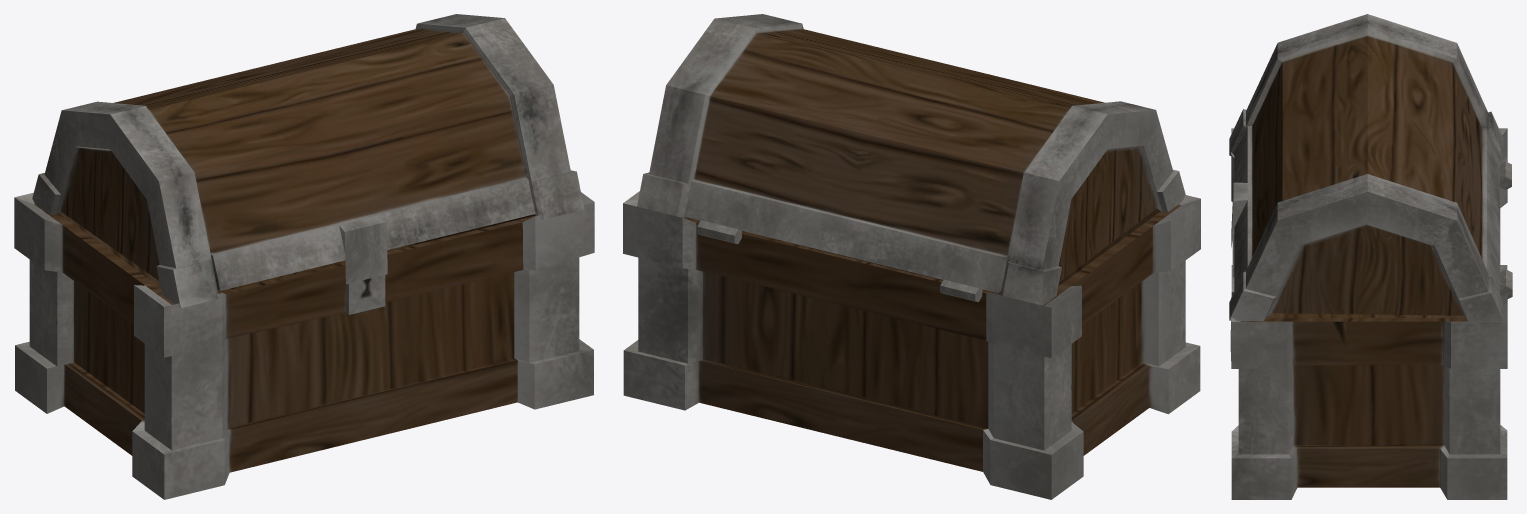
The picture shows the model from 3 angles, left to right: view 1: azimuth 30°, elevation 25°; view 2: azimuth 150°, elevation 25°; view 3: azimuth 270°, elevation 25°; orthographic projection. The views are drawn at different scales.
Parts seen in each view (by area): view 1: polySurface1, polySurface2; view 2: polySurface1, polySurface2, polySurface4; view 3: polySurface2, polySurface1, polySurface4.
Boxes of the visible parts, bbox=[...] form: polySurface1: bbox=[14, 192, 594, 499]; polySurface2: bbox=[32, 14, 584, 307]; polySurface1: bbox=[623, 191, 1200, 499]; polySurface2: bbox=[637, 14, 1185, 305]; polySurface4: bbox=[697, 220, 741, 244]; polySurface2: bbox=[1229, 14, 1503, 321]; polySurface1: bbox=[1230, 128, 1507, 499]; polySurface4: bbox=[1500, 269, 1512, 298].
Bounding box in the file's own units: 109 × 78.84 × 67.21.
